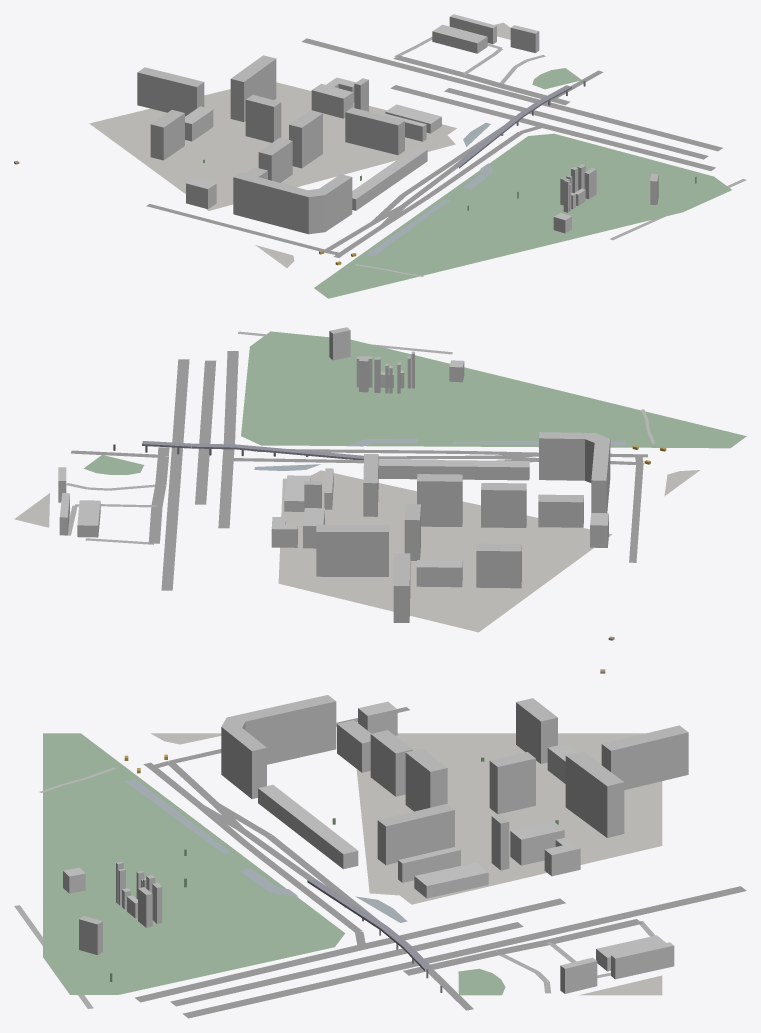
3 renders of one model, top to bottom at view 1: azimuth 30°, elevation 25°; view 2: azimuth 150°, elevation 25°; view 3: azimuth 270°, elevation 25°, orthographic. The views are drawn at different scales.
Bounding box in the file's own units: 661 × 48.78 × 592.
